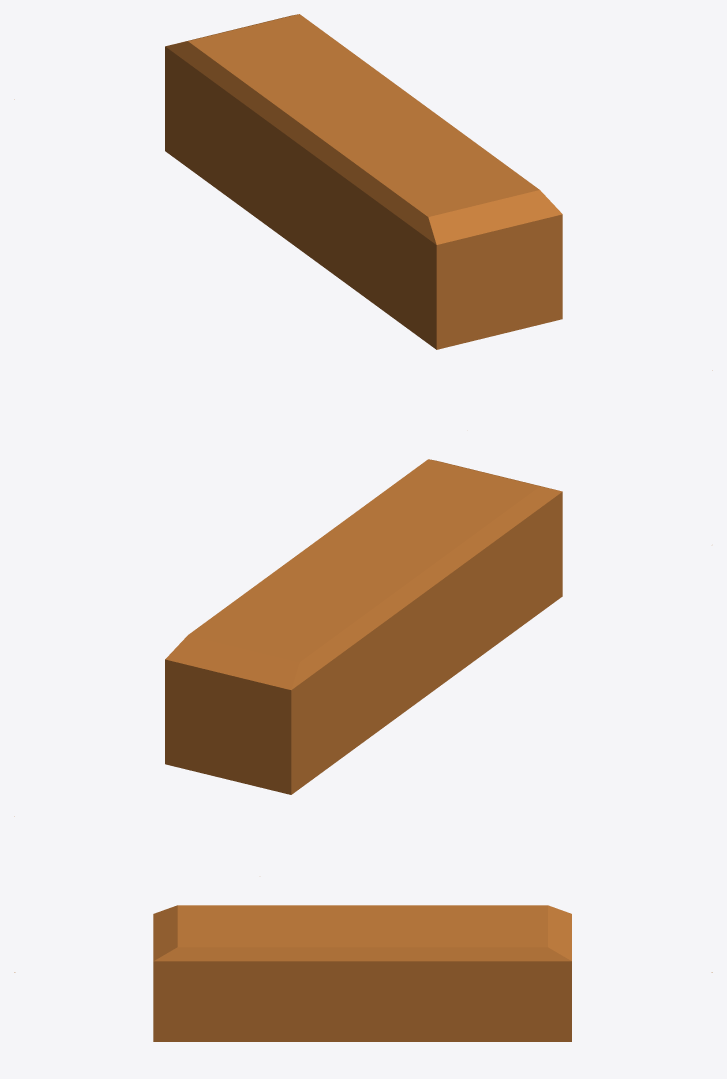
The model's file is copper_ingot_medium.glb.
3 renders of one model, top to bottom at view 1: azimuth 30°, elevation 25°; view 2: azimuth 150°, elevation 25°; view 3: azimuth 270°, elevation 25°, orthographic. The views are drawn at different scales.
Parts seen in each view (by area): view 1: copper_ingot_medium; view 2: copper_ingot_medium; view 3: copper_ingot_medium.
Part boxes in pixels (bbox=[...]): copper_ingot_medium: bbox=[14, 14, 712, 370]; copper_ingot_medium: bbox=[14, 459, 562, 816]; copper_ingot_medium: bbox=[14, 905, 712, 1041].
Size of the model in its own units: 0.1454 by 0.0678 by 0.4653.
